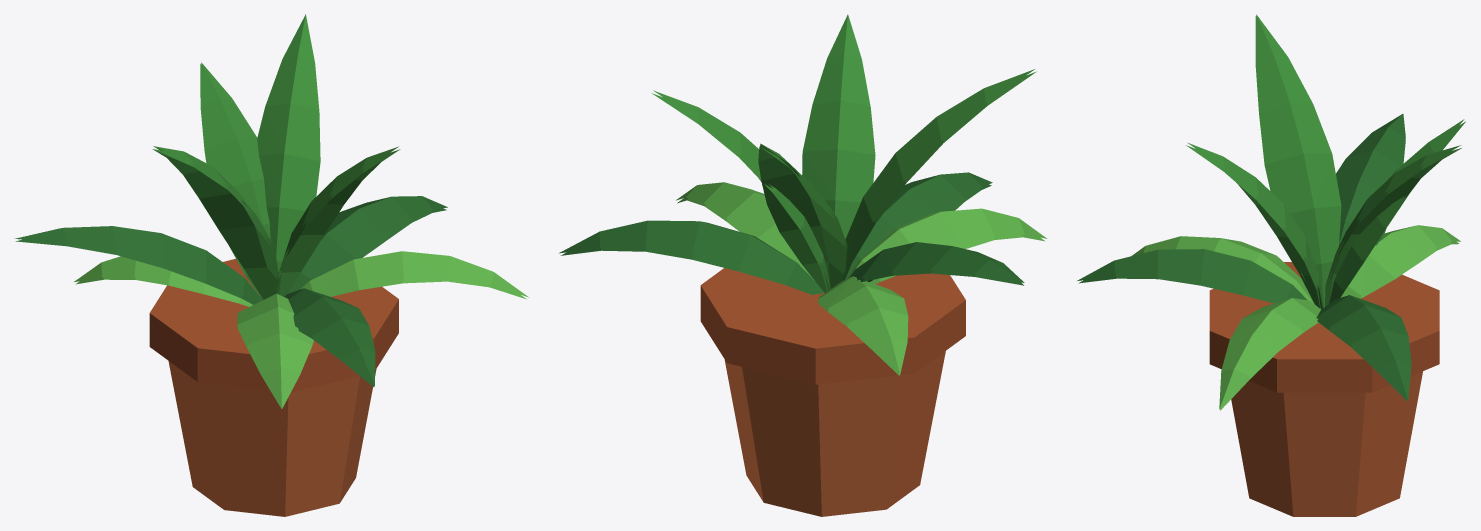
File: Prop_PottedPlant.fbx
3 views of the same model, side by side, from view 1: azimuth 30°, elevation 25°; view 2: azimuth 150°, elevation 25°; view 3: azimuth 270°, elevation 25° (orthographic). The views are drawn at different scales.
Visible parts, largest first — view 1: Prop_PottedPlant; view 2: Prop_PottedPlant; view 3: Prop_PottedPlant.
Part boxes in pixels (left/top/right/bottom): Prop_PottedPlant: left=14, top=14, right=528, bottom=516; Prop_PottedPlant: left=559, top=14, right=1047, bottom=516; Prop_PottedPlant: left=1077, top=14, right=1465, bottom=516.
Size of the model in its own units: 0.6731 by 0.5893 by 0.5268.
